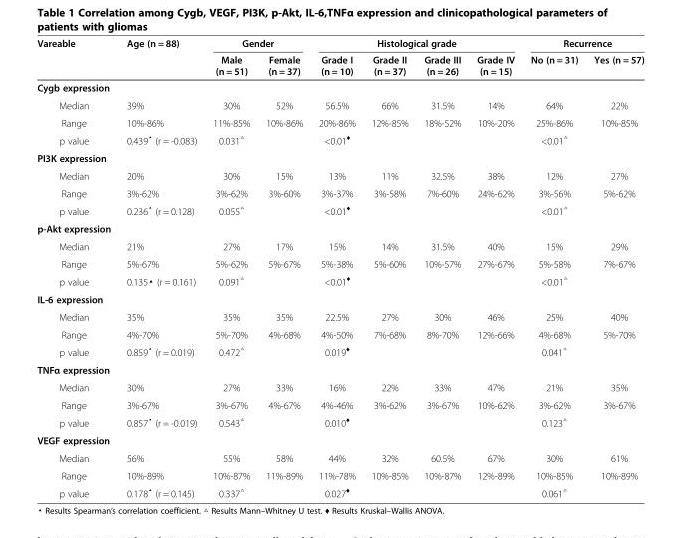table: (36, 37, 643, 498)
table column: (118, 37, 204, 498), (36, 37, 118, 498), (521, 37, 585, 498), (585, 37, 643, 498), (204, 37, 257, 498), (257, 37, 310, 498), (362, 37, 415, 498), (415, 37, 468, 498), (468, 37, 521, 498), (310, 37, 362, 498)
table column header: (36, 37, 643, 79)
table projected row header: (36, 219, 643, 237), (36, 360, 643, 378), (36, 431, 643, 449), (36, 79, 643, 96), (36, 149, 643, 166), (36, 290, 643, 307)
table row: (36, 51, 643, 79), (36, 130, 643, 149), (36, 271, 643, 290), (36, 412, 643, 431), (36, 166, 643, 184), (36, 201, 643, 219), (36, 219, 643, 237), (36, 307, 643, 325), (36, 342, 643, 360), (36, 360, 643, 378), (36, 378, 643, 396), (36, 431, 643, 449), (36, 79, 643, 96), (36, 96, 643, 113), (36, 113, 643, 130), (36, 149, 643, 166), (36, 184, 643, 201), (36, 237, 643, 254), (36, 254, 643, 271), (36, 290, 643, 307), (36, 325, 643, 342), (36, 449, 643, 466), (36, 466, 643, 483), (36, 396, 643, 412), (36, 483, 643, 498), (36, 37, 643, 51)
table spanning cell: (118, 37, 204, 79), (36, 37, 118, 79), (310, 37, 521, 51), (521, 37, 643, 51), (204, 37, 310, 51)
